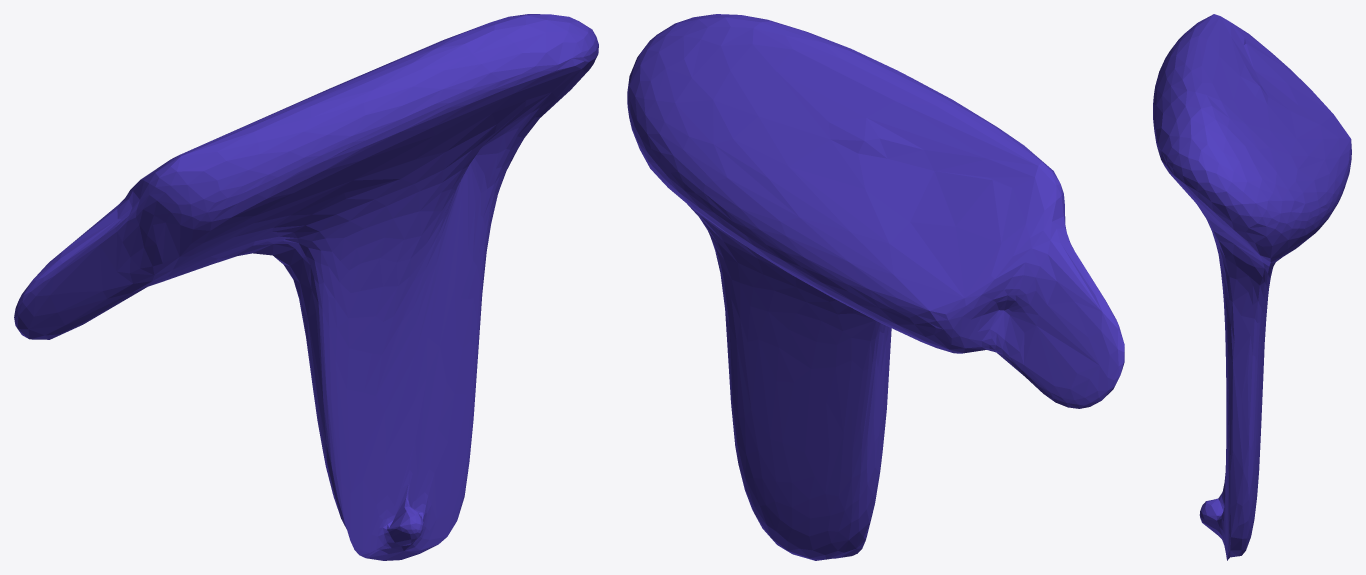
The picture shows the model from 3 angles, left to right: view 1: azimuth 30°, elevation 25°; view 2: azimuth 150°, elevation 25°; view 3: azimuth 270°, elevation 25°; orthographic projection. The views are drawn at different scales.
Visible parts, largest first — view 1: 929_Cube.3755; view 2: 929_Cube.3755; view 3: 929_Cube.3755.
Part boxes in pixels (left/top/right/bottom): 929_Cube.3755: left=14, top=14, right=598, bottom=560; 929_Cube.3755: left=627, top=14, right=1124, bottom=560; 929_Cube.3755: left=1153, top=14, right=1351, bottom=560.
Size of the model in its own units: 14.09 by 13.11 by 4.79.
